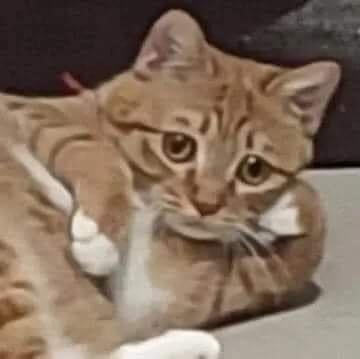cat: (1, 9, 342, 333)
